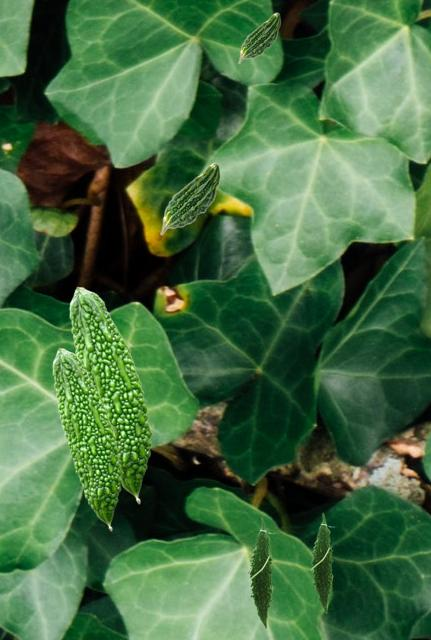ampalaya: (69, 286, 154, 504), (52, 347, 124, 531), (159, 162, 220, 235), (247, 517, 276, 629), (309, 512, 336, 613), (237, 12, 281, 64)
